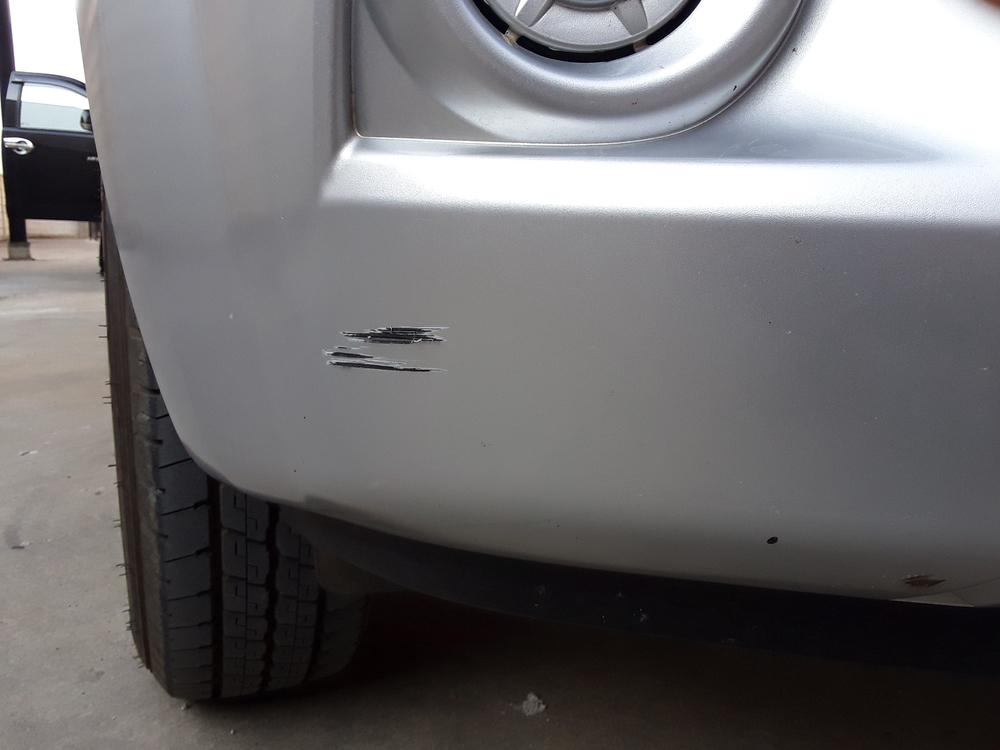scratch: (319, 309, 462, 380)
